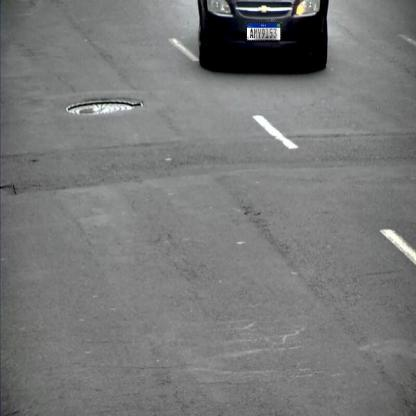PlacaM: (246, 22, 281, 41)
